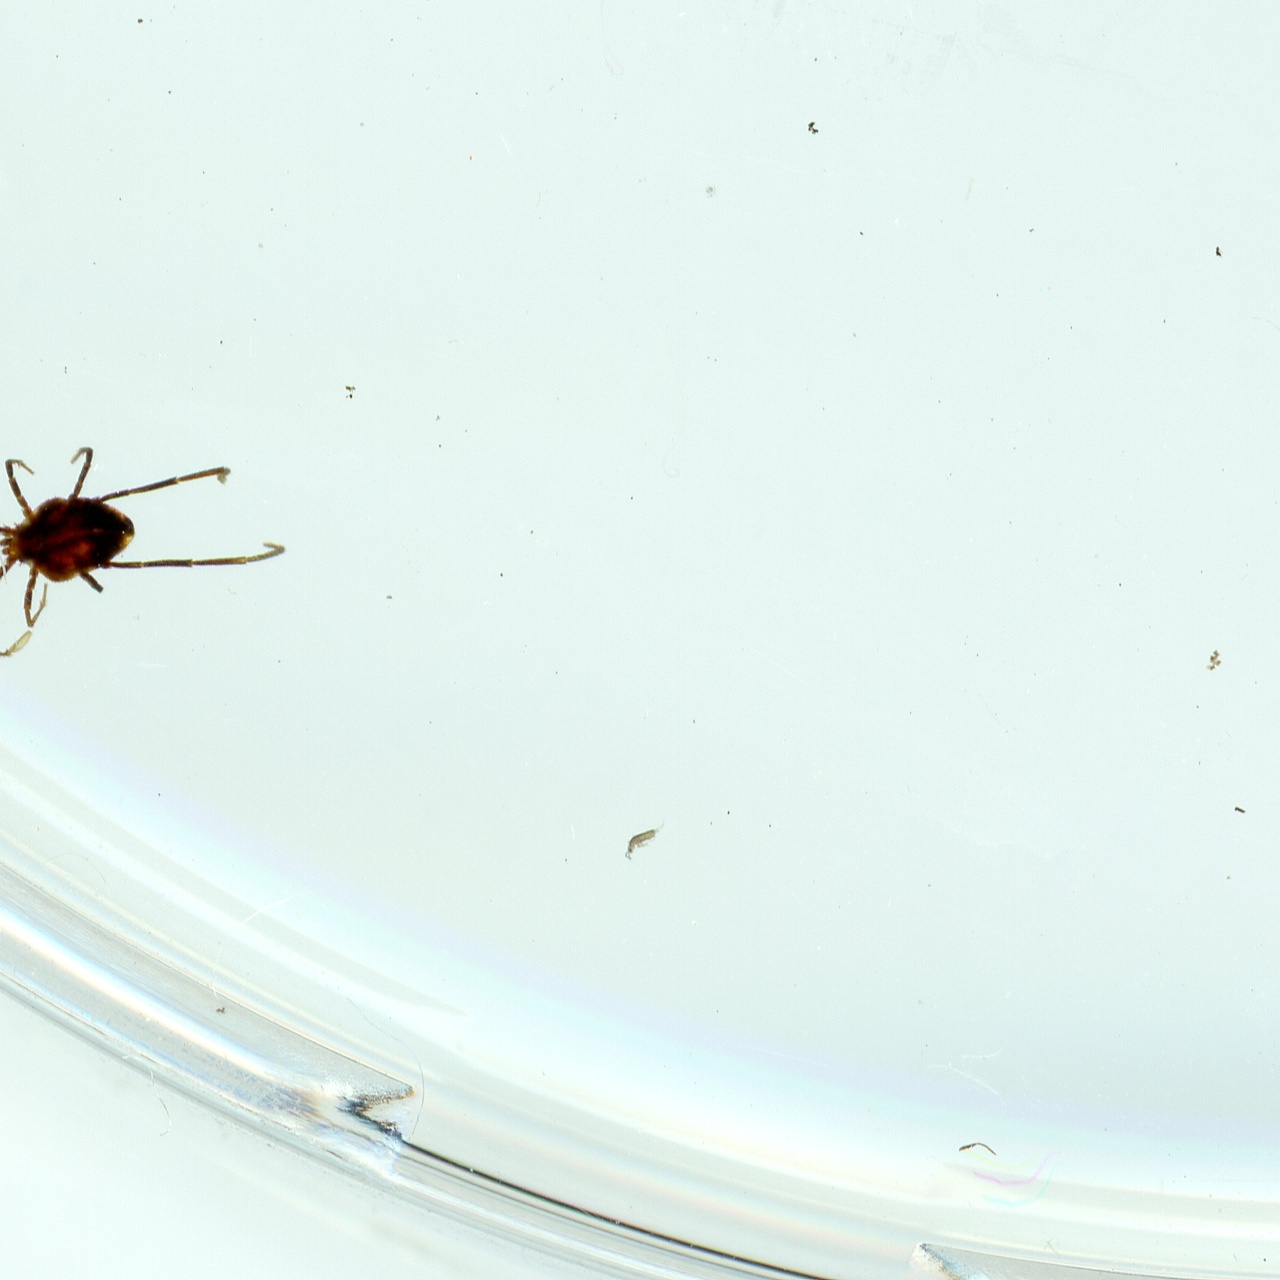arthropod: (0, 441, 288, 666), (619, 810, 676, 865)
